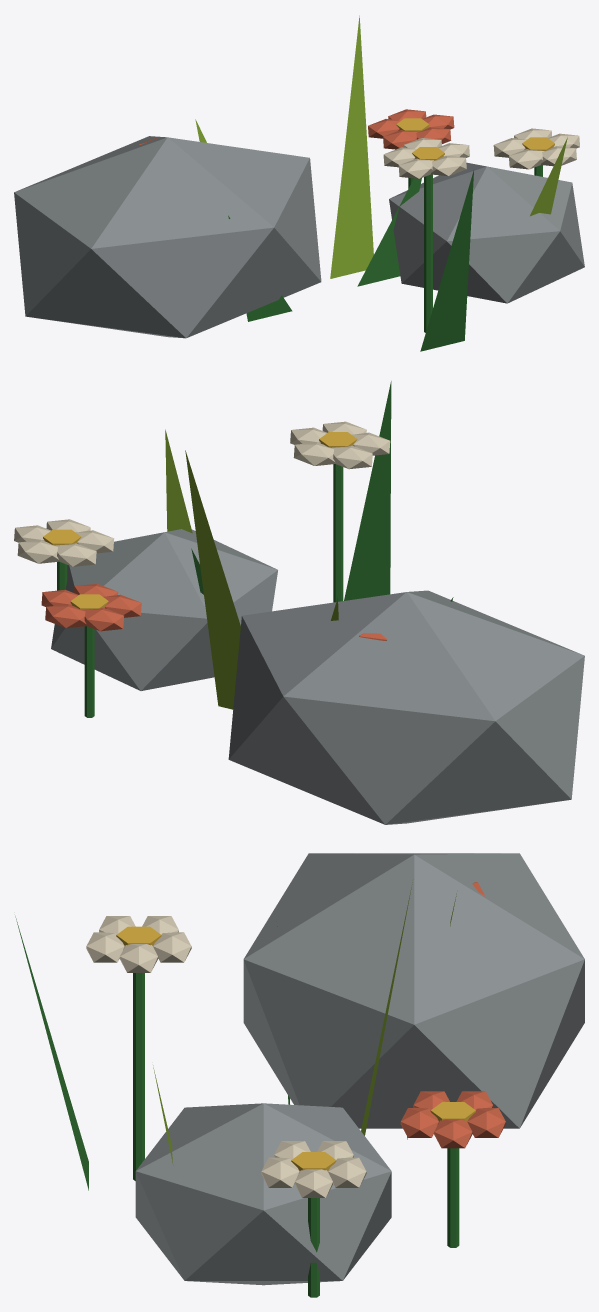
File: flower_rock_patch.glb
3 views of the same model, one above another, from view 1: azimuth 30°, elevation 25°; view 2: azimuth 150°, elevation 25°; view 3: azimuth 270°, elevation 25° (orthographic). The views are drawn at different scales.
Parts seen in each view (by area): view 1: flower_rock_patch_mobile; view 2: flower_rock_patch_mobile; view 3: flower_rock_patch_mobile.
Boxes of the visible parts, left/top/right/bottom form: flower_rock_patch_mobile: left=14, top=15, right=584, bottom=351; flower_rock_patch_mobile: left=14, top=381, right=584, bottom=824; flower_rock_patch_mobile: left=15, top=853, right=584, bottom=1297.
Size of the model in its own units: 1.63 by 0.83 by 1.14.
